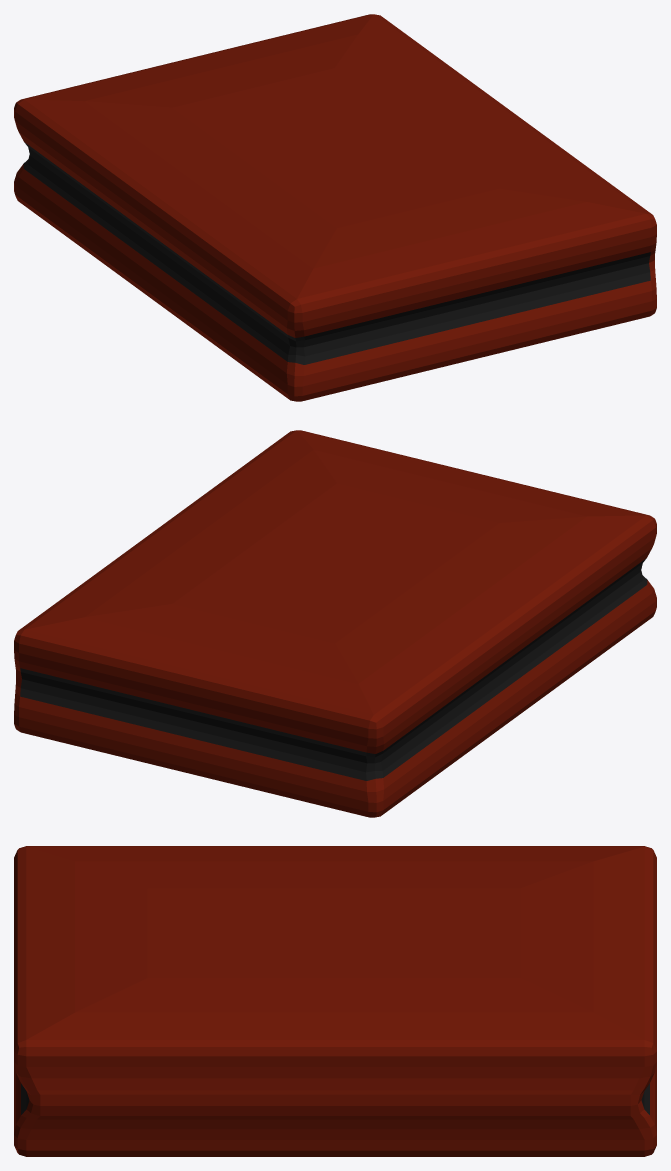
The model's file is purse.fbx.
The picture shows the model from 3 angles, top to bottom: view 1: azimuth 30°, elevation 25°; view 2: azimuth 150°, elevation 25°; view 3: azimuth 270°, elevation 25°; orthographic projection. The views are drawn at different scales.
Visible parts, largest first — view 1: Cube; view 2: Cube; view 3: Cube.
Boxes of the visible parts, <box> form: Cube: <box>14,14,656,401</box>; Cube: <box>14,430,656,817</box>; Cube: <box>14,846,656,1156</box>.
Bounding box in the file's own units: 15.2 × 4.34 × 20.
